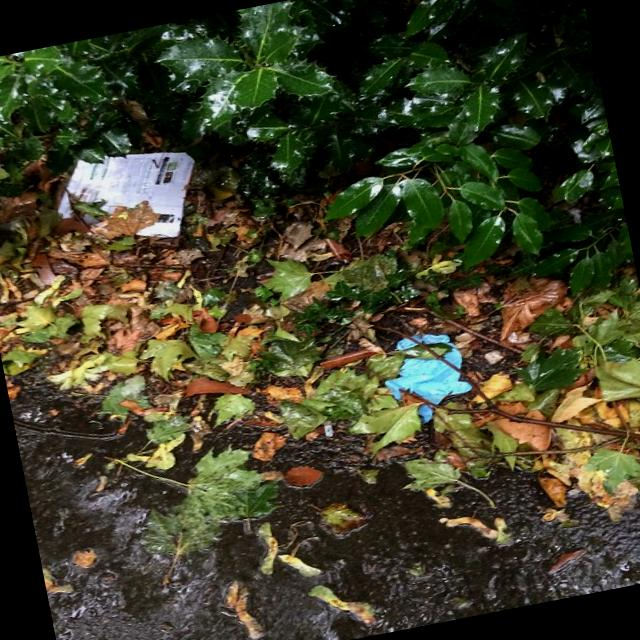Trash: (50, 133, 210, 262)
